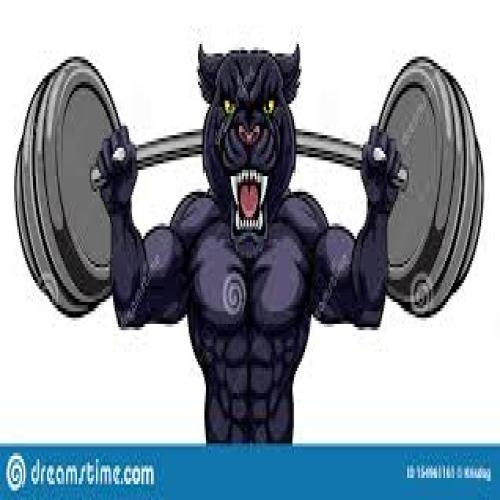panther-endangered: (95, 46, 403, 436)
